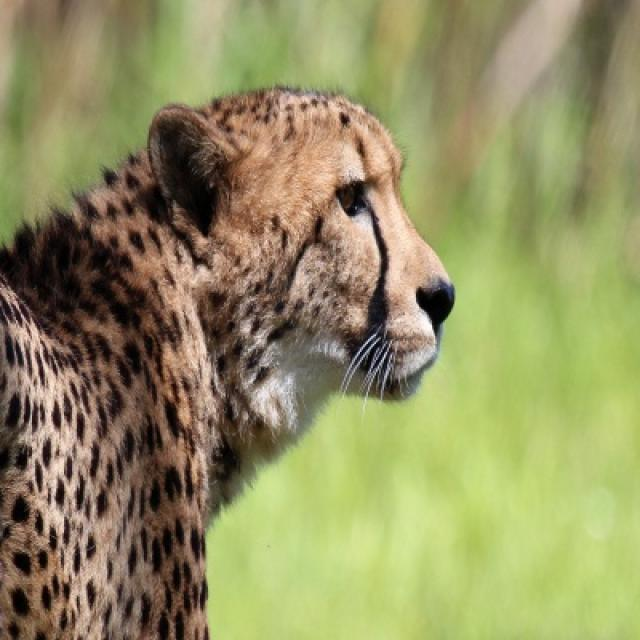Cheetah: (0, 86, 456, 638)
